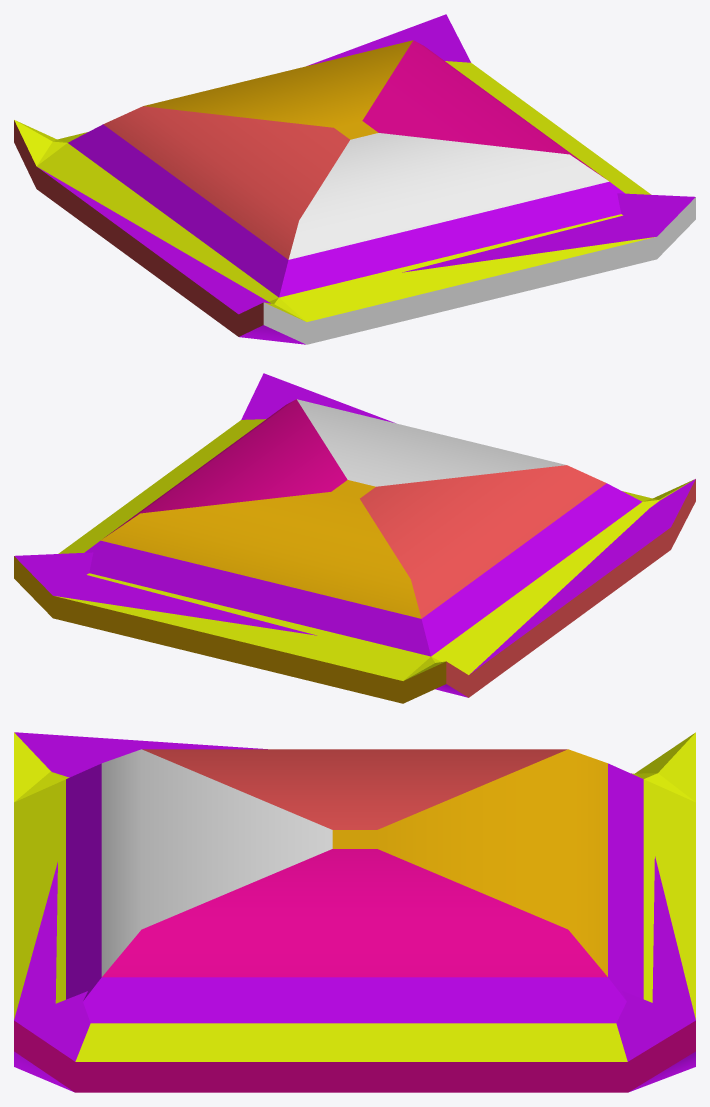
The model's file is roof1.fbx.
The picture shows the model from 3 angles, top to bottom: view 1: azimuth 30°, elevation 25°; view 2: azimuth 150°, elevation 25°; view 3: azimuth 270°, elevation 25°; orthographic projection. The views are drawn at different scales.
Parts seen in each view (by area): view 1: pCube3; view 2: pCube3; view 3: pCube3.
Part boxes in pixels (bbox=[...]): pCube3: bbox=[14, 14, 695, 344]; pCube3: bbox=[14, 373, 695, 703]; pCube3: bbox=[14, 732, 695, 1092].
Bounding box in the file's own units: 600 × 107 × 600.
